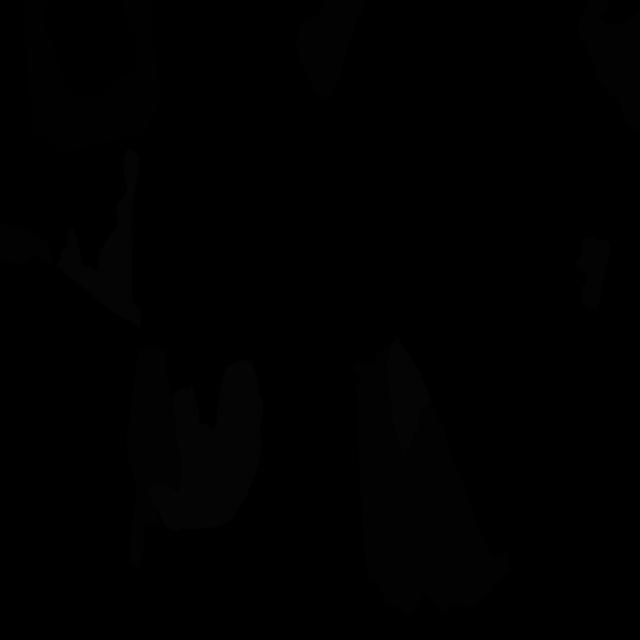cardboard: (376, 401, 510, 616), (353, 345, 412, 582), (126, 348, 182, 569), (577, 0, 640, 133), (294, 0, 366, 100), (0, 223, 52, 267)
metal: (576, 237, 610, 310)
rigid_plastic: (23, 0, 159, 151)
soft_plastic: (148, 359, 264, 531), (56, 148, 141, 328), (386, 336, 432, 463)
